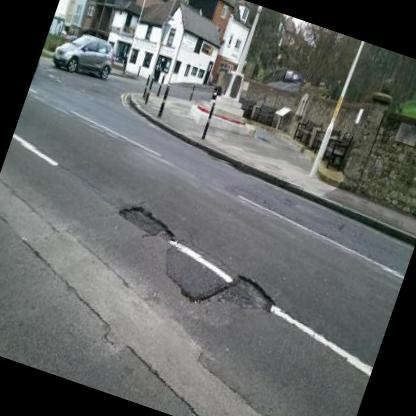pothole: (220, 268, 282, 318), (112, 198, 179, 244)
